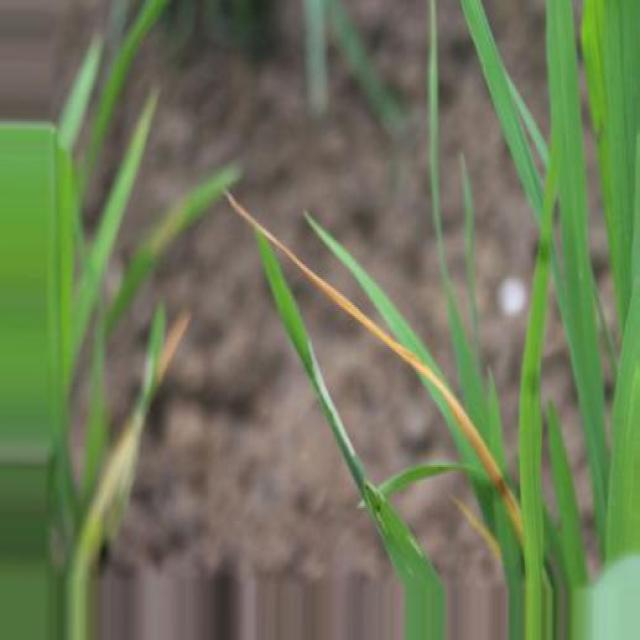Rice Tungro: (226, 195, 521, 538)
